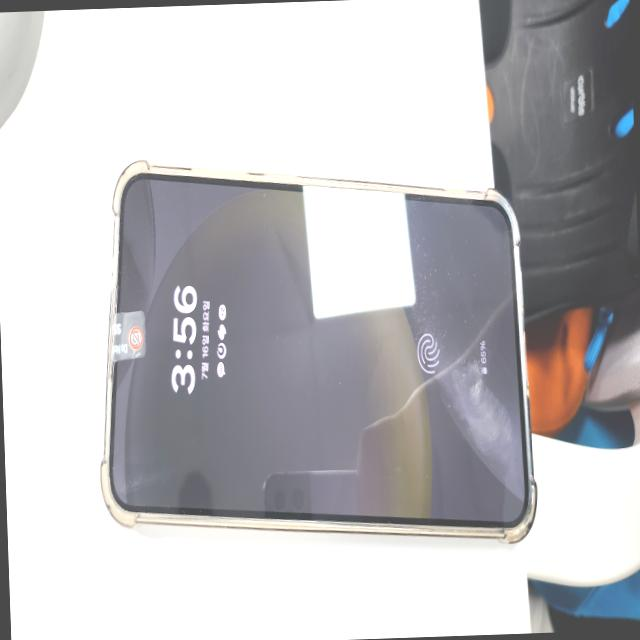phone: (85, 147, 537, 550)
sticker: (108, 308, 148, 361)
